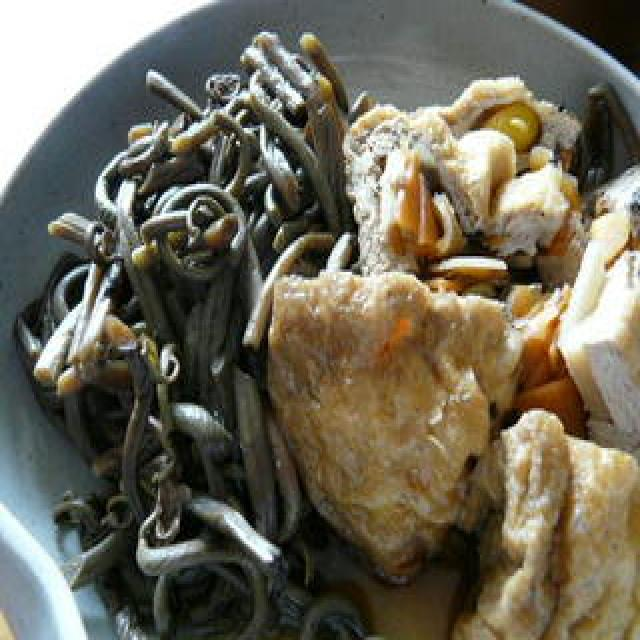熟制海鲜: (272, 48, 640, 640)
